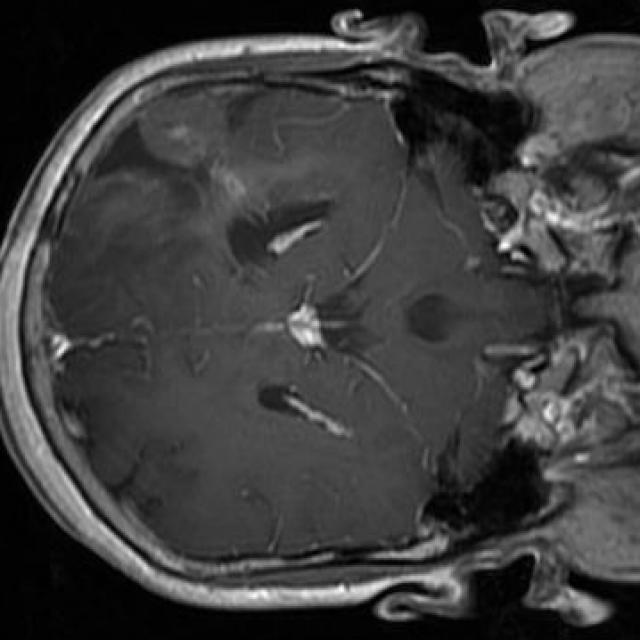glioma: (93, 121, 217, 212)
